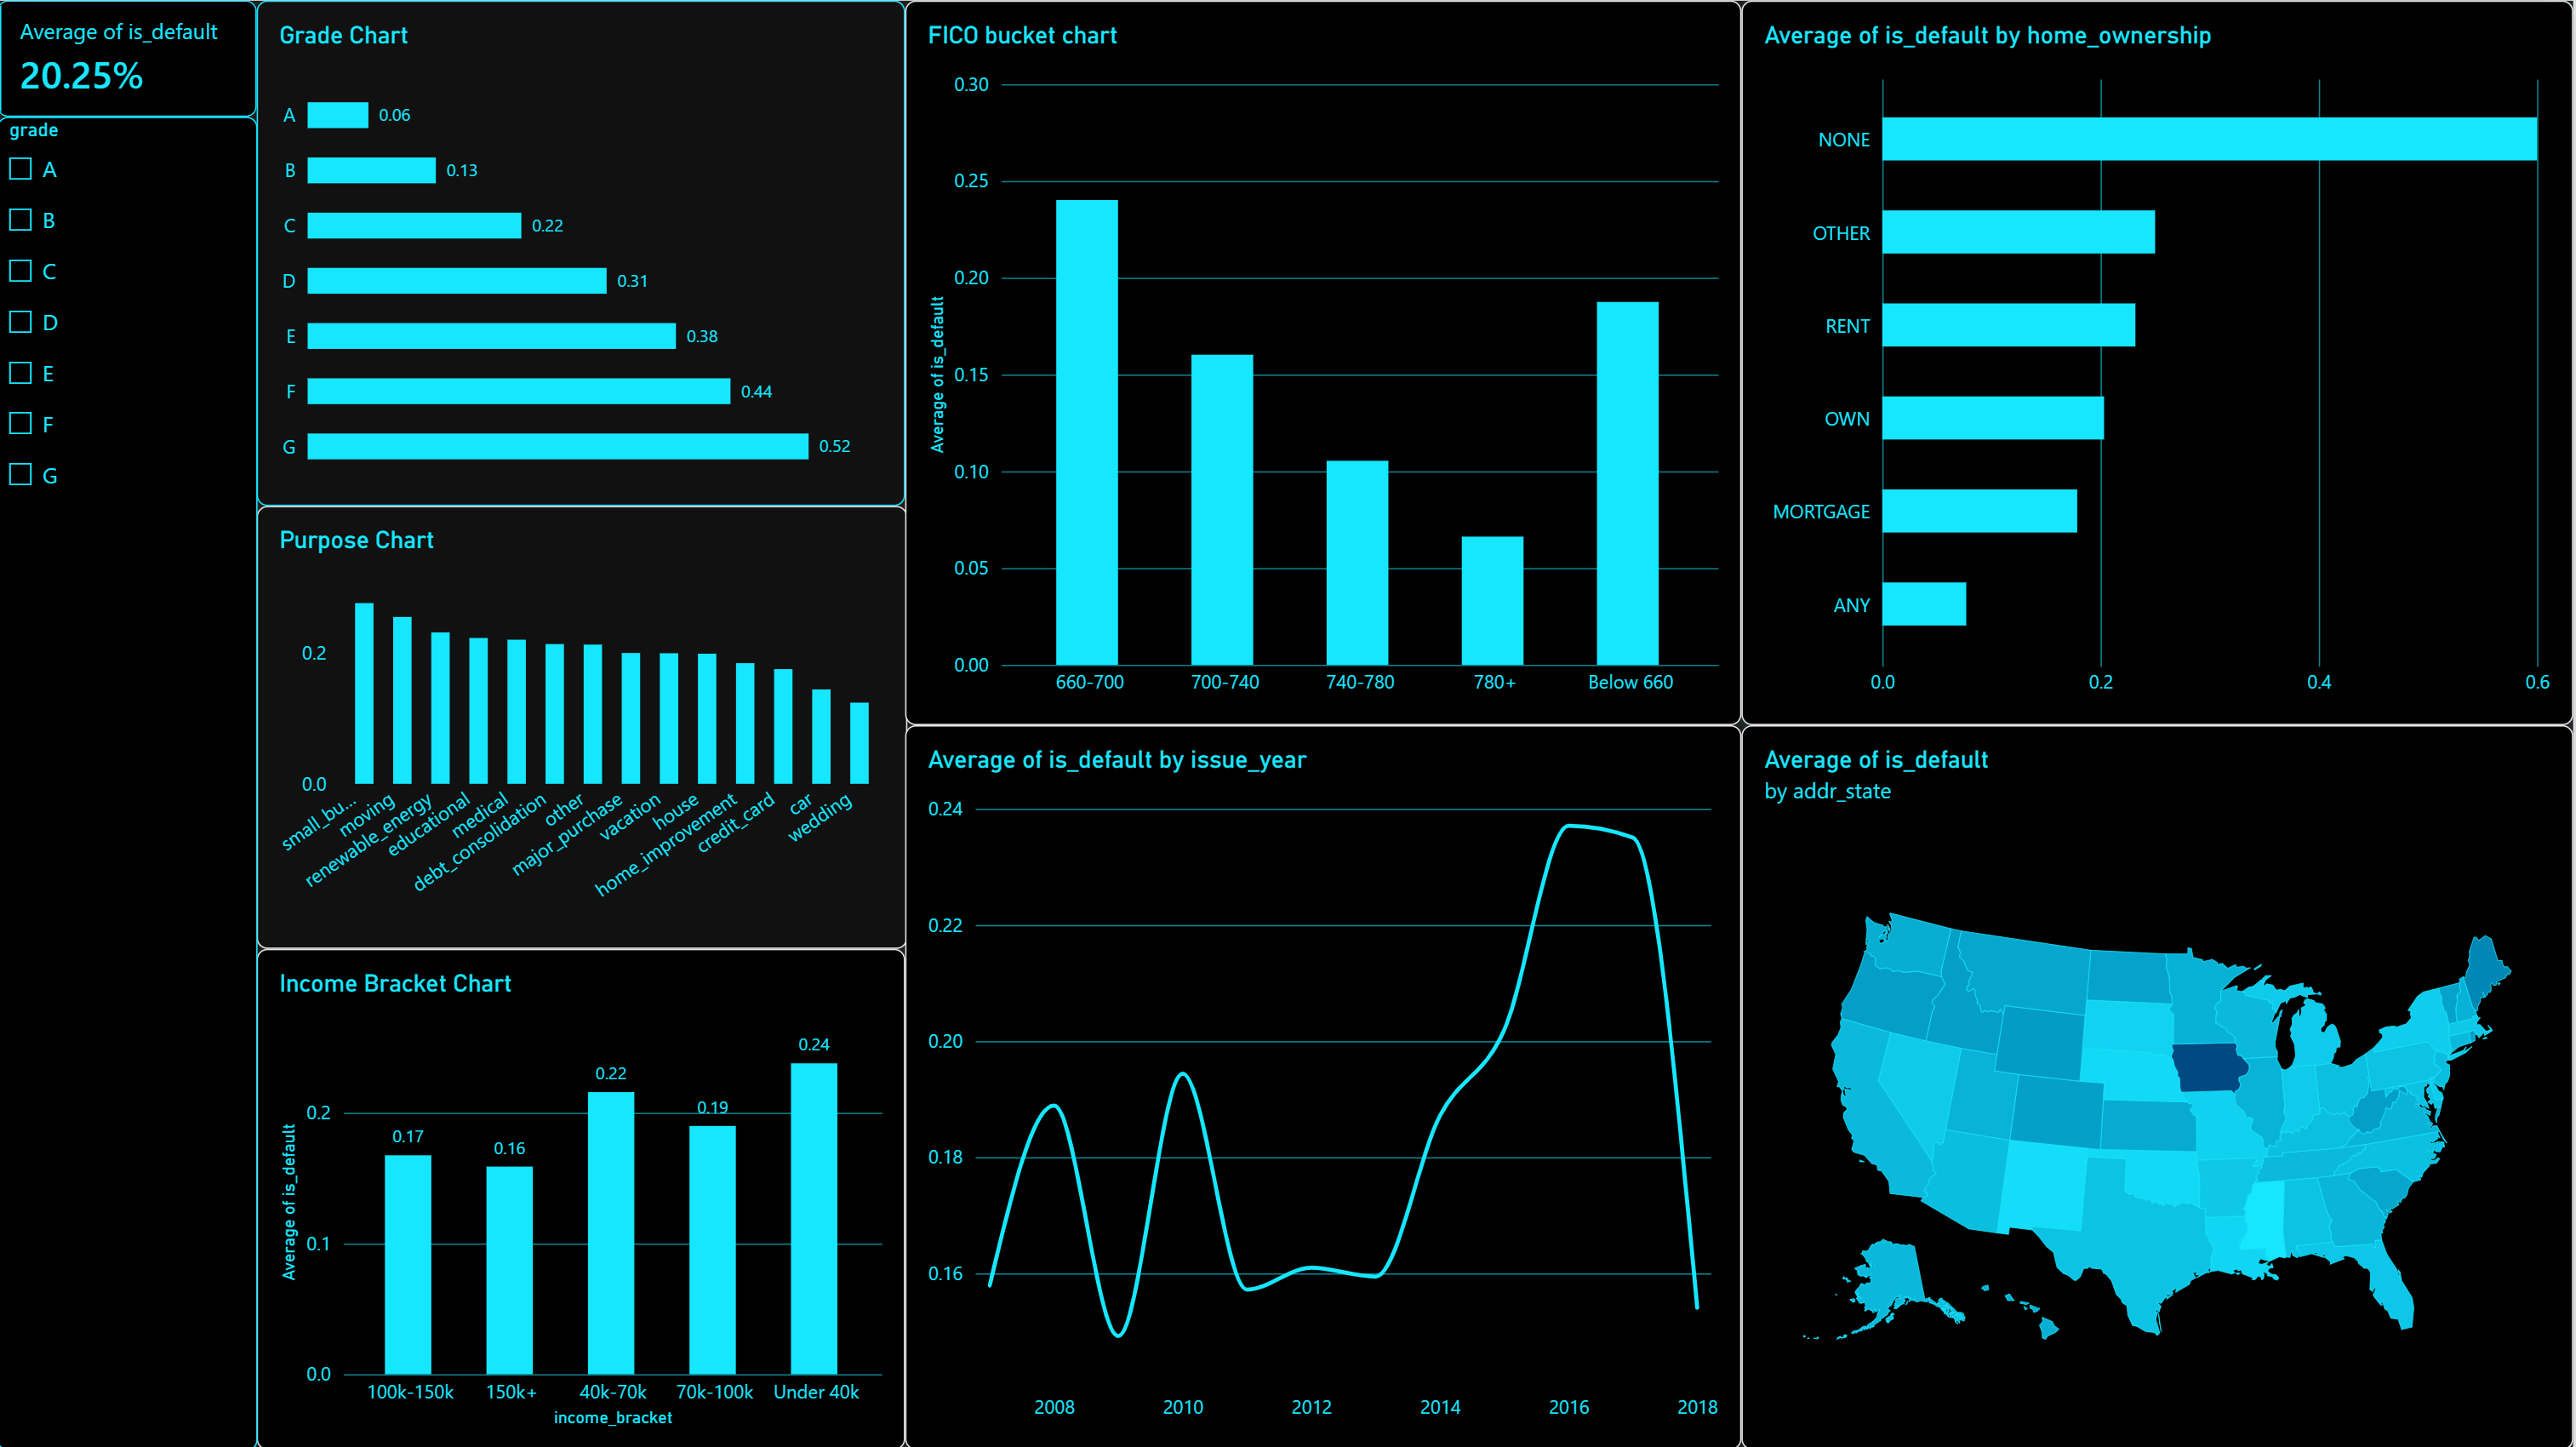

The dashboard page shown, as its layout file describes it:
{"tool":"powerbi","page":{"name":"Page 1","canvas":[1920,1080],"ordinal":0},"visuals":[{"type":"clusteredBarChart","title":"Grade Chart","fields":{"Category":["loans.grade"],"Y":["Avg(loans.is_default)"]},"box":[193.3,0,483.3,376.7],"z":1000},{"type":"clusteredColumnChart","title":"Purpose Chart","fields":{"Category":["loans.purpose"],"Y":["Avg(loans.is_default)"]},"box":[192.5,377.5,485,330],"z":2000},{"type":"clusteredColumnChart","title":"Income Bracket Chart","fields":{"Category":["loans.income_bracket"],"Y":["Avg(loans.is_default)"]},"box":[193.3,706.7,483.3,373.3],"z":3000},{"type":"clusteredBarChart","fields":{"Category":["loans.home_ownership"],"Y":["Avg(loans.is_default)"]},"box":[1300,0,620,540],"z":4000},{"type":"clusteredColumnChart","title":"FICO bucket chart","fields":{"Category":["loans.fico_bucket"],"Y":["Avg(loans.is_default)"]},"box":[676.7,0,623.3,540],"z":5000},{"type":"lineChart","fields":{"Category":["loans.issue_year"],"Y":["Avg(loans.is_default)"]},"box":[676.7,540,623.3,540],"z":6000},{"type":"shapeMap","fields":{"Category":["loans.addr_state"],"Value":["Avg(loans.is_default)"]},"box":[1300,540,620,540],"z":7000},{"type":"slicer","fields":{"Values":["loans.grade"]},"box":[0,86,194,994],"z":8000},{"type":"cardVisual","title":"% of Defaulters","fields":{"Data":["Avg(loans.is_default)"]},"box":[0,0,193.3,86.7],"z":8001}]}

Visuals, with their boxes in screenshot pixels (x1, y1, x2, y2), scaled from the page's 1920x1080 canvas onto the 2576x1447 screenshot:
"Grade Chart" clusteredBarChart: [260,0,908,505]
"Purpose Chart" clusteredColumnChart: [258,506,909,948]
"Income Bracket Chart" clusteredColumnChart: [260,947,908,1446]
clusteredBarChart - loans.home_ownership x Avg(loans.is_default): [1745,0,2575,723]
"FICO bucket chart" clusteredColumnChart: [908,0,1745,723]
lineChart - loans.issue_year x Avg(loans.is_default): [908,723,1745,1446]
shapeMap - loans.addr_state x Avg(loans.is_default): [1745,723,2575,1446]
slicer - loans.grade: [0,115,260,1446]
"% of Defaulters" cardVisual: [0,0,260,116]
